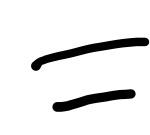eqv: (31, 37, 148, 112)
